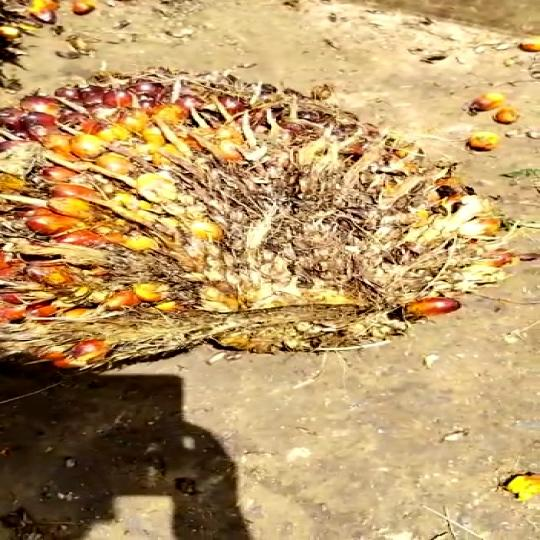masak: (0, 56, 514, 377)
